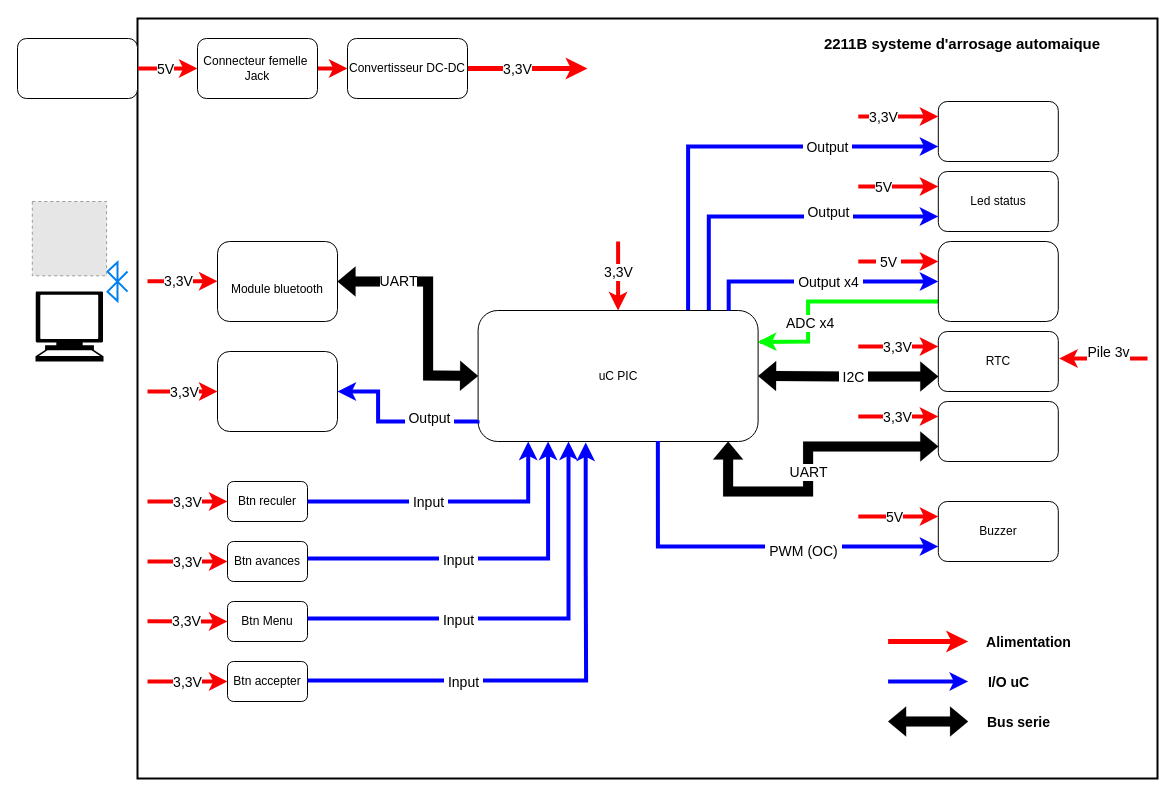
Image size: 1176x796. Some labels were removed from this diagram. Grey dashed boxes stand in for pictures. Each missing label, with the box of its shape:
Connecteur mesure niveau eau: (937, 400, 1058, 462)
Connecteurs Capteur humidité pompe à eau x4: (937, 240, 1058, 322)
LCD 4x20: (216, 350, 338, 432)
Led uC (power on/off): (937, 100, 1058, 162)
Transfo AC/DC 5V: (16, 38, 138, 98)
